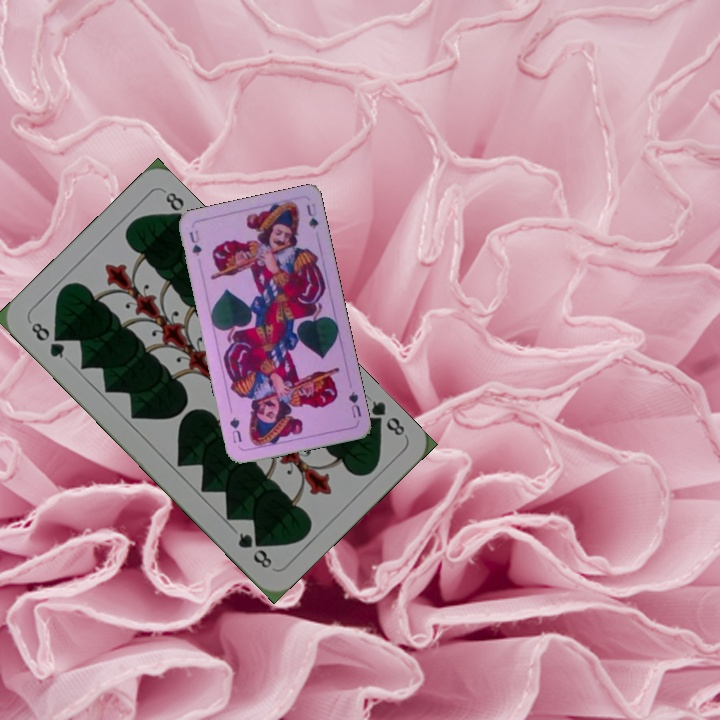G8: (363, 396, 408, 439), (25, 317, 68, 361)
GU: (344, 387, 364, 420), (185, 226, 204, 258)
